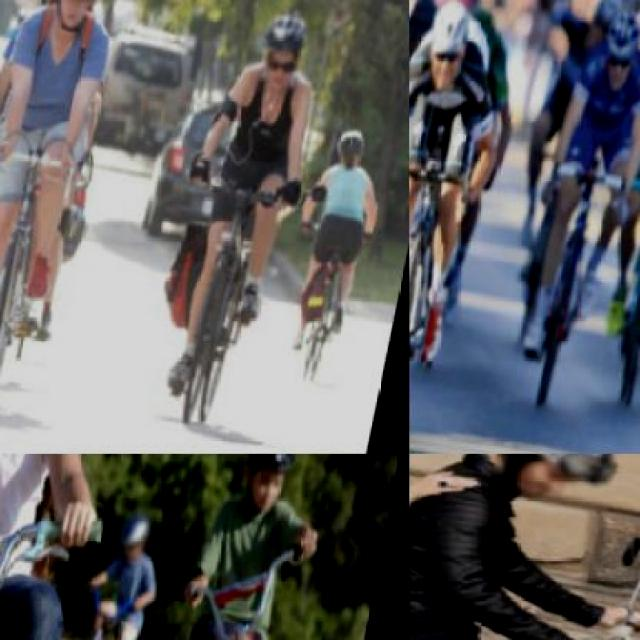With Helmet: (241, 0, 334, 97), (488, 454, 630, 508), (412, 0, 486, 92), (232, 454, 314, 512), (592, 0, 638, 95), (113, 491, 169, 563), (36, 0, 118, 35), (332, 114, 377, 161)
